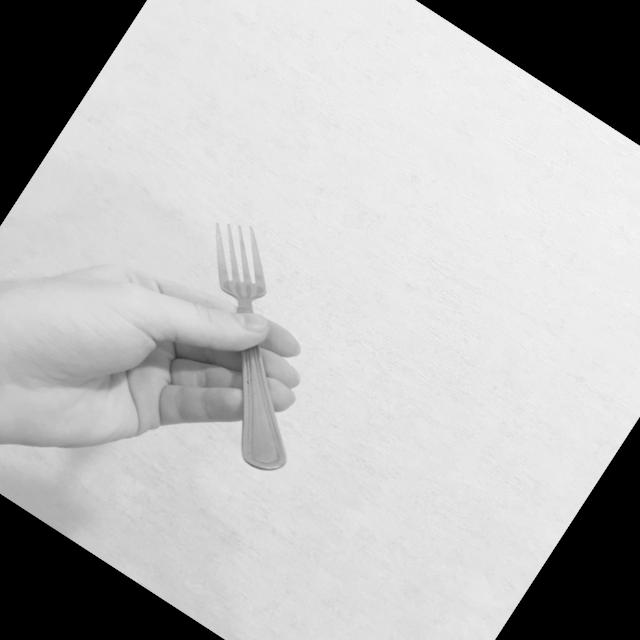fork: (112, 206, 384, 482)
